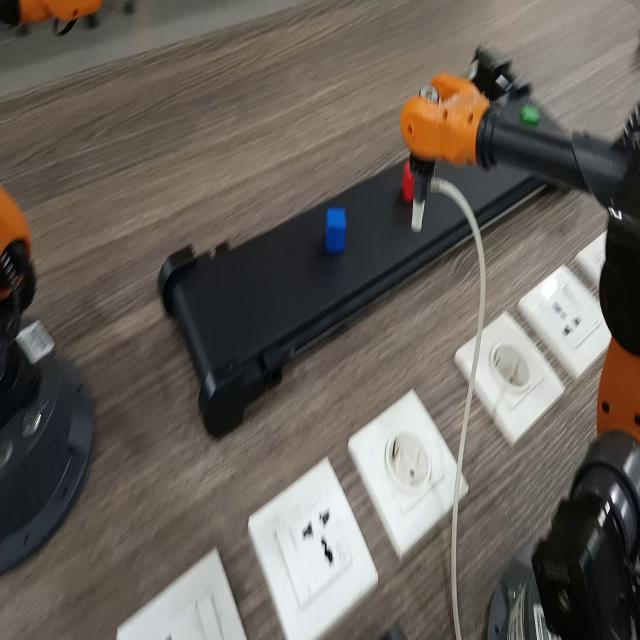cube: (323, 201, 352, 260), (402, 161, 414, 206), (521, 99, 541, 125)
